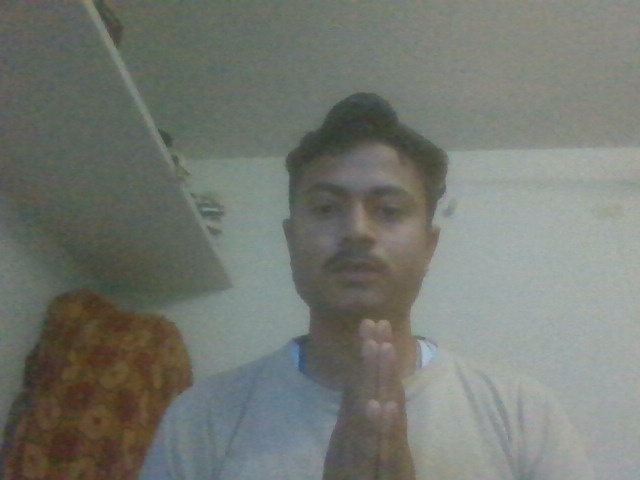Namaste: (316, 319, 424, 480)
